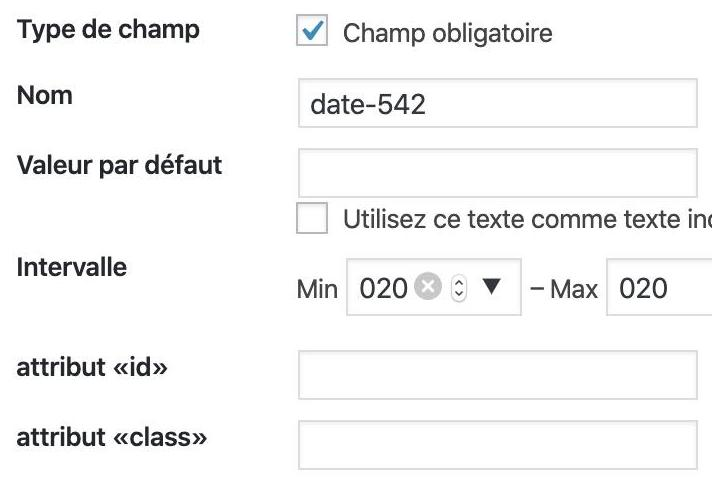checkbox: (291, 10, 334, 48), (295, 200, 329, 237)
checkbox_with_label: (15, 5, 340, 53), (287, 6, 553, 53)
field: (297, 349, 704, 402), (295, 419, 700, 472), (297, 77, 701, 129), (297, 147, 700, 198), (343, 255, 523, 319)
field_with_label: (13, 346, 706, 407), (13, 416, 704, 474), (15, 76, 703, 133), (13, 145, 702, 200), (295, 251, 528, 322)
